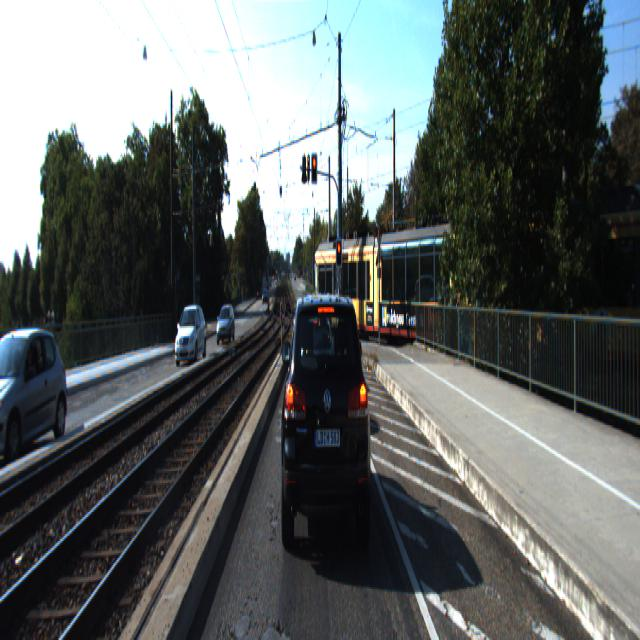Car: (281, 294, 373, 587), (367, 226, 483, 344), (0, 321, 74, 469), (310, 235, 384, 335), (174, 306, 207, 368), (215, 304, 236, 346)
